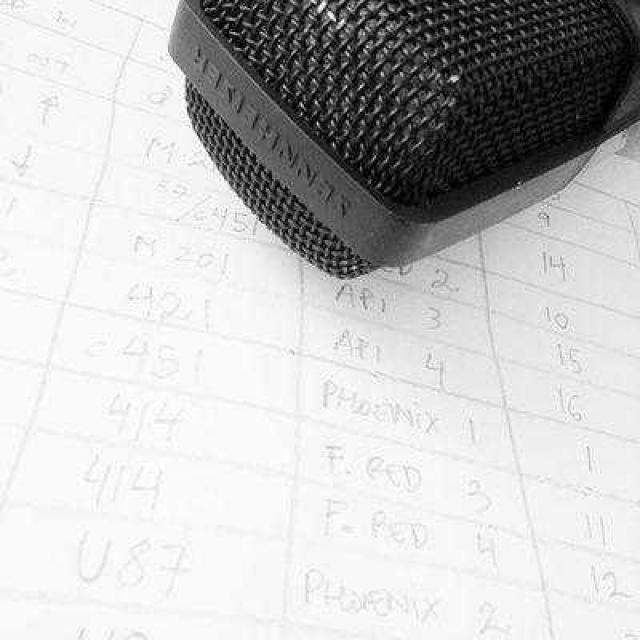microphone: (173, 4, 625, 286)
